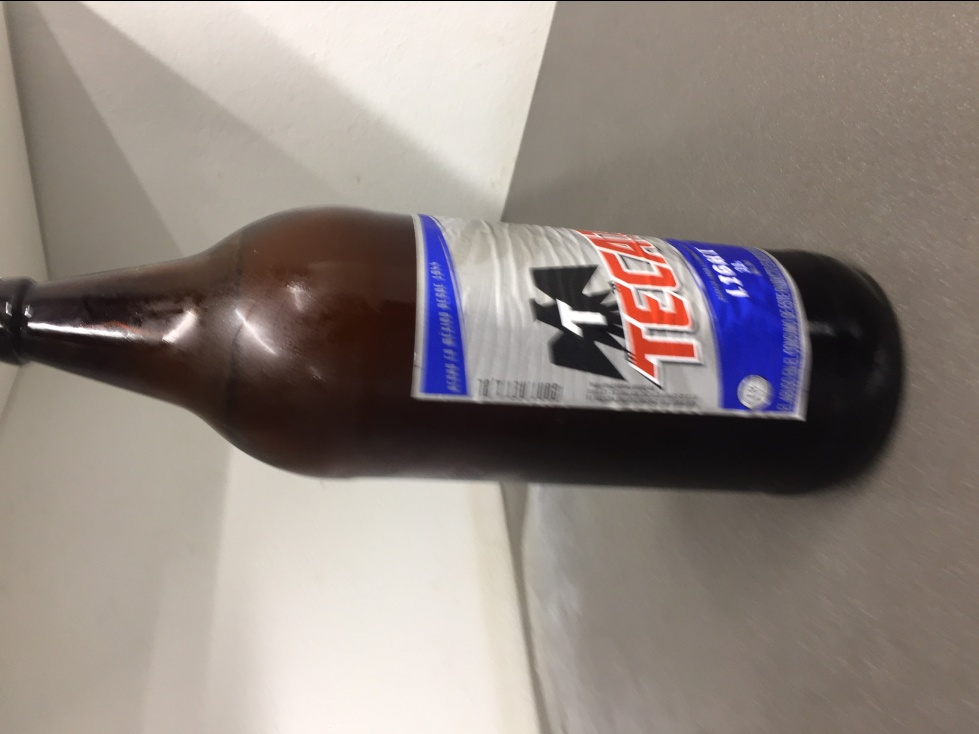tecateC: (6, 205, 902, 502)
